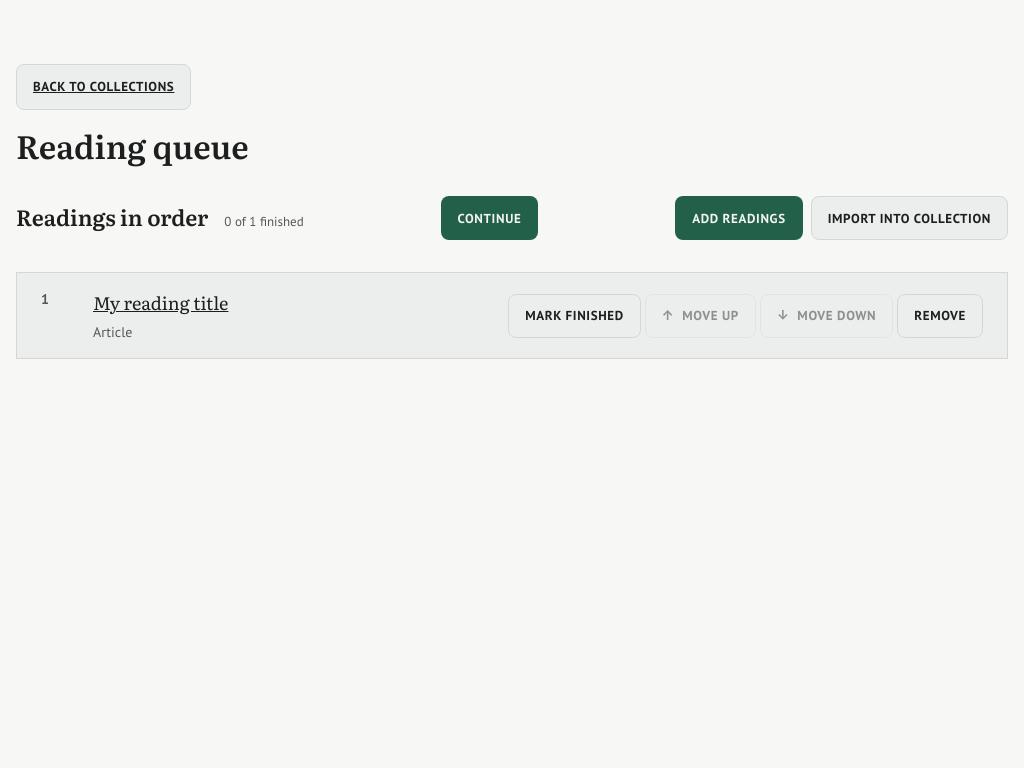
Test: import into collection (issue #15) › a landed import shows the new entry, focuses it, and announces the save + limit notes
This screenshot has width=1024, height=768.
Click the button "Import into collection" at (909,218), box [811,196,1008,240]
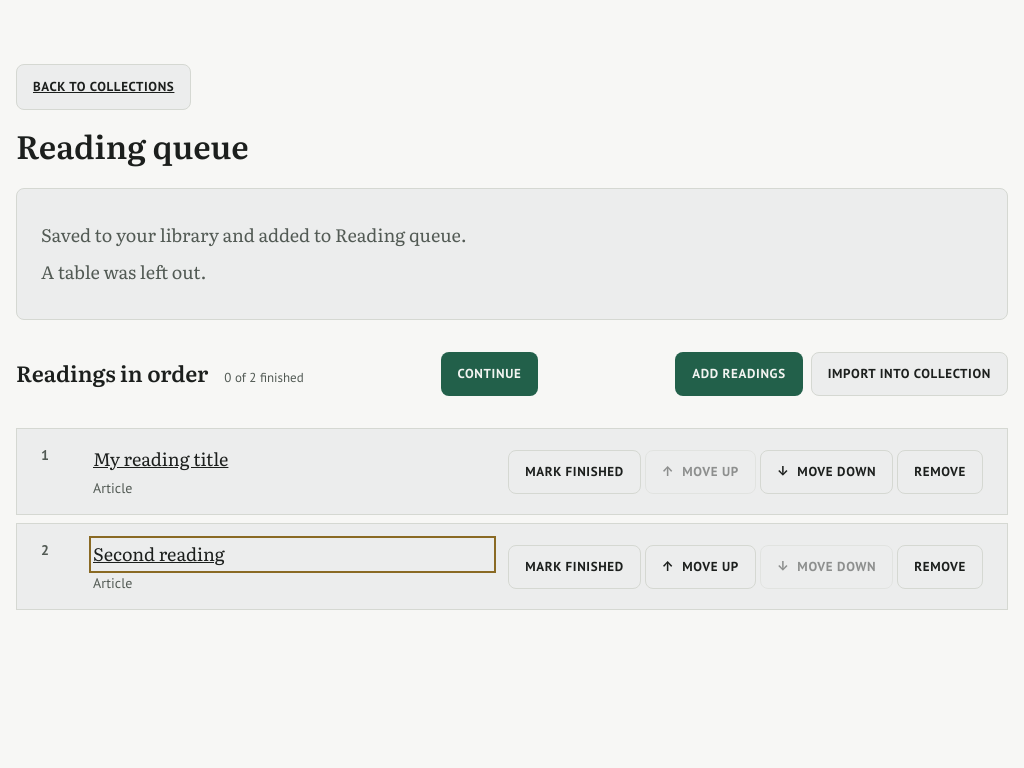
Expected: the text "Saved to your library and added to Reading queue." is shown, [41,221,467,248]
Expected: the text "A table was left out." is shown, [41,258,206,285]
